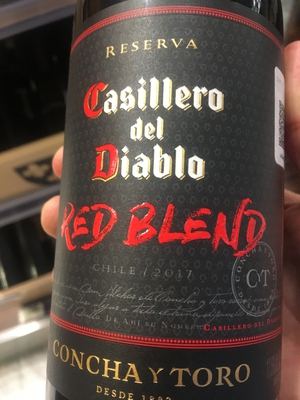casillero del diablo red blend: (51, 28, 292, 396)
